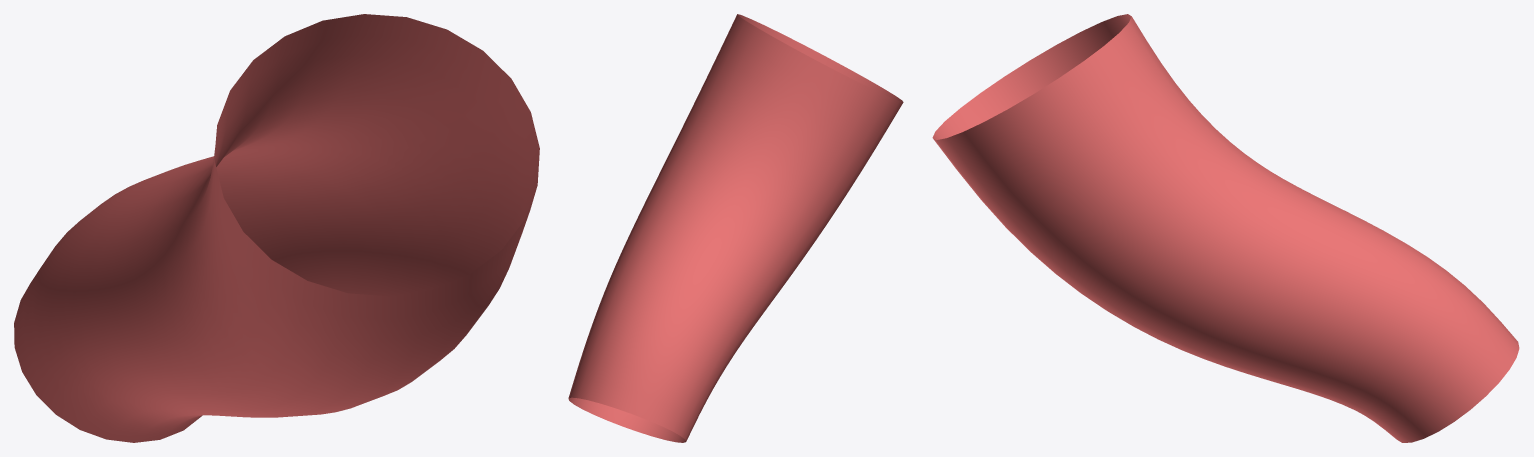
File: Posterior_division_internal_iliac_artery_left.glb
The picture shows the model from 3 angles, left to right: view 1: azimuth 30°, elevation 25°; view 2: azimuth 150°, elevation 25°; view 3: azimuth 270°, elevation 25°; orthographic projection. The views are drawn at different scales.
Visible parts, largest first — view 1: Posterior_division_of_internal_iliac_artery.l_BezierCurve.25; view 2: Posterior_division_of_internal_iliac_artery.l_BezierCurve.25; view 3: Posterior_division_of_internal_iliac_artery.l_BezierCurve.25.
Boxes of the visible parts, left/top/right/bottom form: Posterior_division_of_internal_iliac_artery.l_BezierCurve.25: left=14, top=14, right=539, bottom=442; Posterior_division_of_internal_iliac_artery.l_BezierCurve.25: left=568, top=14, right=903, bottom=442; Posterior_division_of_internal_iliac_artery.l_BezierCurve.25: left=932, top=14, right=1519, bottom=442.
Size of the model in its own units: 0.00622 by 0.0109 by 0.0144.
